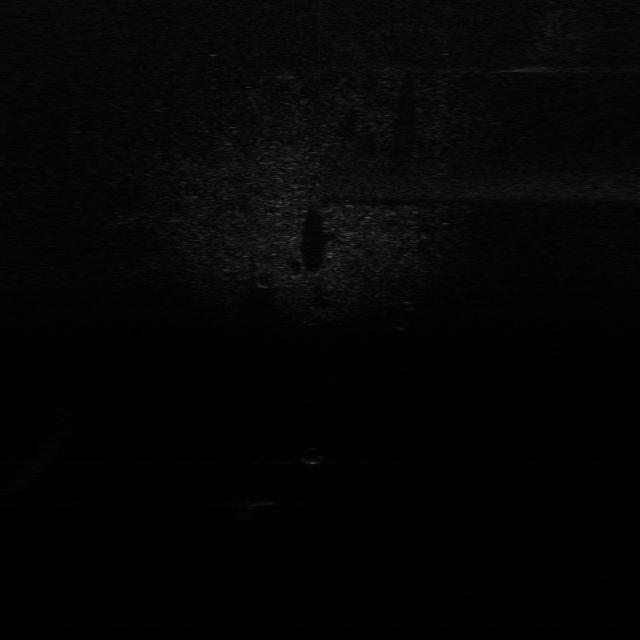ball: (300, 443, 330, 468)
square cage: (232, 492, 283, 510)
tyre: (393, 297, 421, 334)
